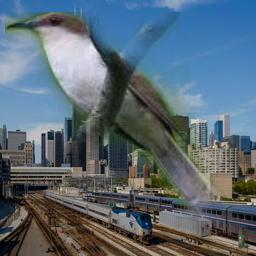Cuckoo: (5, 12, 248, 256)
